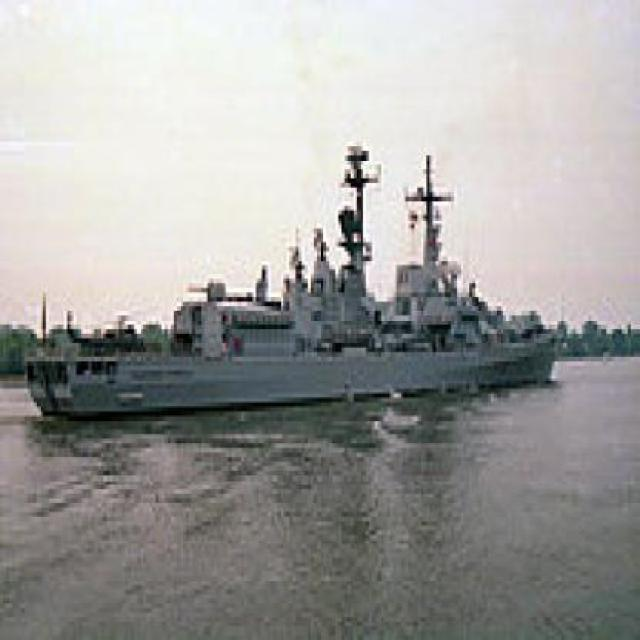warship2: (19, 120, 577, 431)
